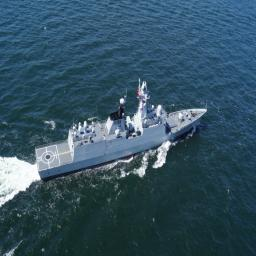Fragata: (32, 70, 210, 187)
